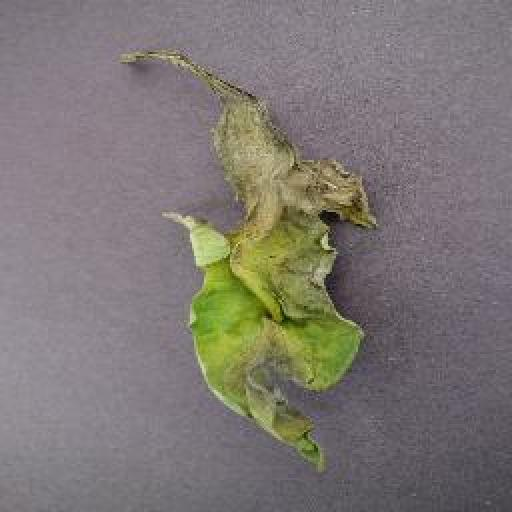Late Blight: (123, 43, 380, 476)
